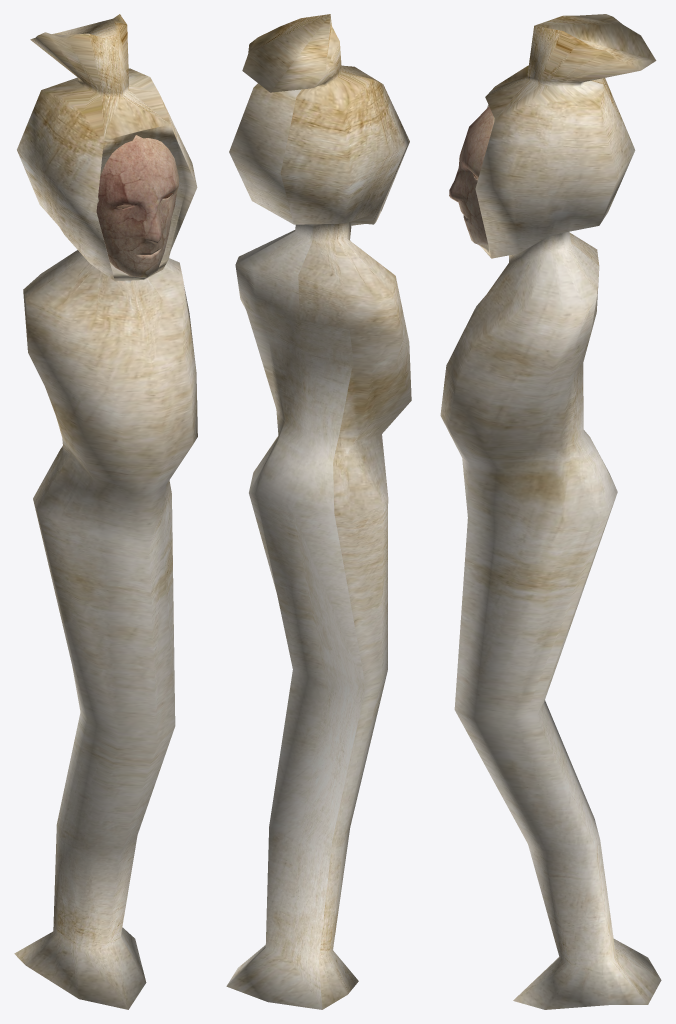
File: pocong.obj
The picture shows the model from 3 angles, left to right: view 1: azimuth 30°, elevation 25°; view 2: azimuth 150°, elevation 25°; view 3: azimuth 270°, elevation 25°; orthographic projection.
Parts seen in each view (by area): view 1: Cube_Cube.001, Mesh.001_Mesh.004; view 2: Cube_Cube.001; view 3: Cube_Cube.001, Mesh.001_Mesh.004.
Part boxes in pixels (<box>): Cube_Cube.001: <box>14,14,197,1009</box>; Mesh.001_Mesh.004: <box>96,135,178,277</box>; Cube_Cube.001: <box>226,14,411,1009</box>; Cube_Cube.001: <box>440,14,661,1009</box>; Mesh.001_Mesh.004: <box>449,106,493,245</box>.
Size of the model in its own units: 1.82 by 10.34 by 2.12.
